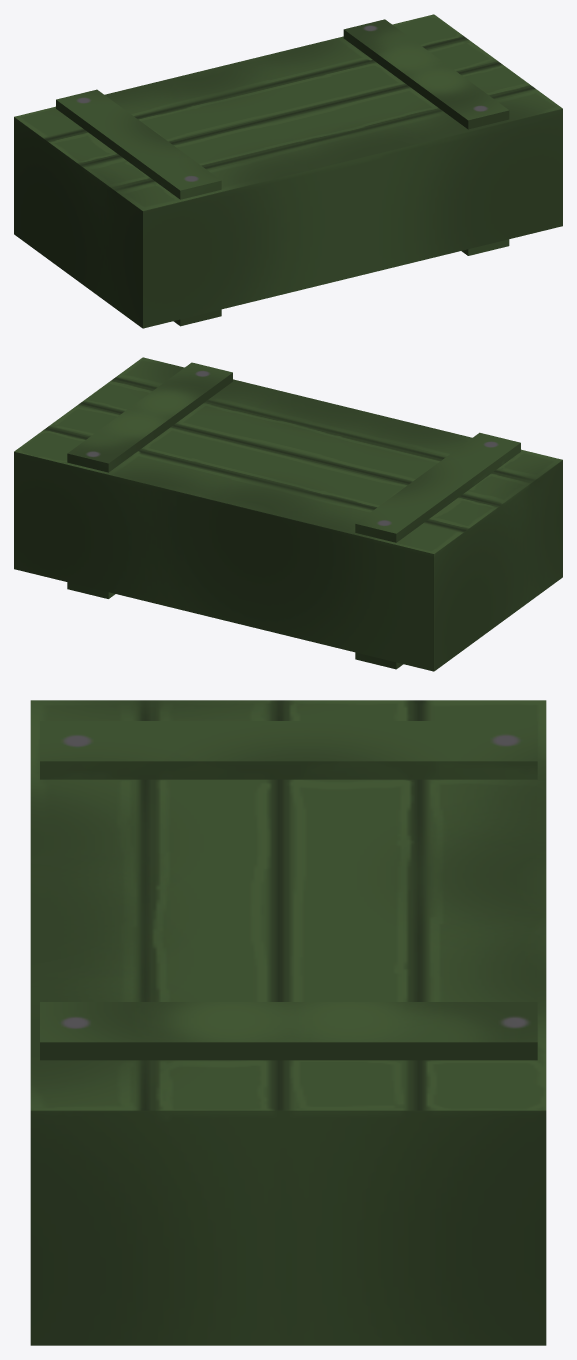
Rendered from BoxForShells.fbx.
3 views of the same model, one above another, from view 1: azimuth 30°, elevation 25°; view 2: azimuth 150°, elevation 25°; view 3: azimuth 270°, elevation 25° (orthographic). The views are drawn at different scales.
Parts seen in each view (by area): view 1: Cube.012; view 2: Cube.012; view 3: Cube.012.
Boxes of the visible parts, x1,y1,x2,y2 form: Cube.012: [14, 14, 562, 328]; Cube.012: [14, 357, 562, 671]; Cube.012: [30, 700, 546, 1345].
Bounding box in the file's own units: 260 × 80.18 × 138.
